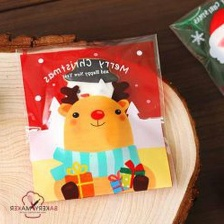snack: (9, 25, 182, 210), (163, 0, 224, 98)
